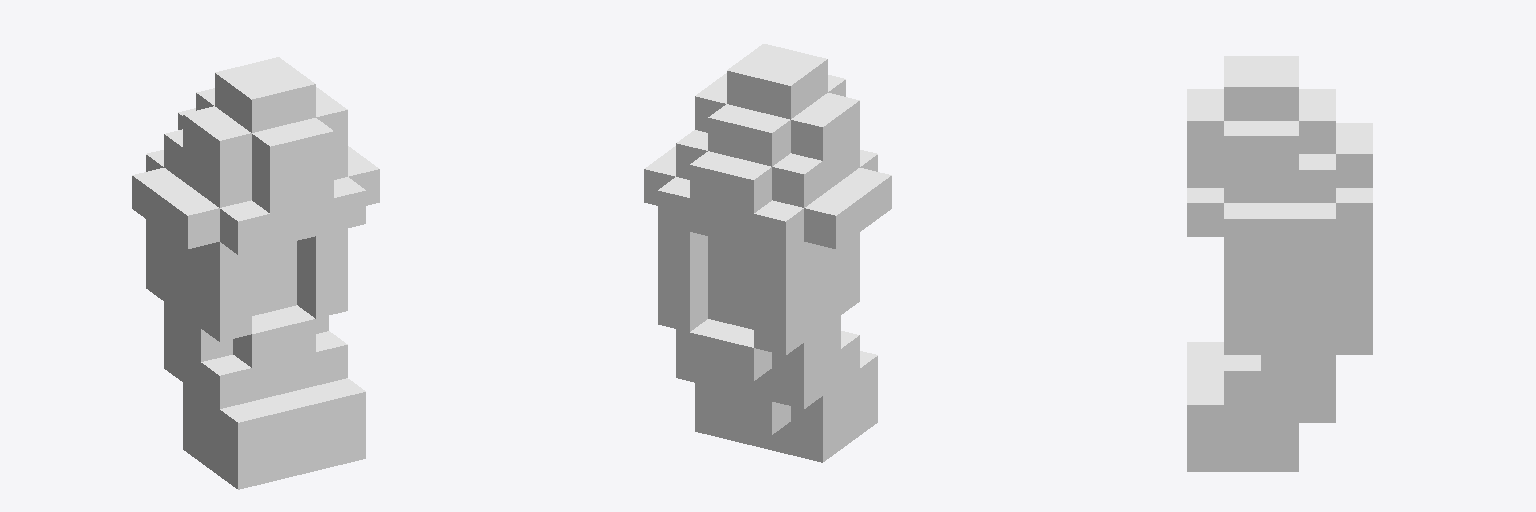
Rendered from Trevor-13.obj.
The picture shows the model from 3 angles: view 1: azimuth 30°, elevation 25°; view 2: azimuth 150°, elevation 25°; view 3: azimuth 270°, elevation 25°; orthographic projection.
Parts seen in each view (by area): view 1: object 1; view 2: object 1; view 3: object 1.
Boxes of the visible parts, box(x1,y1,x2,y2) form: object 1: box(132, 57, 379, 489); object 1: box(644, 44, 891, 462); object 1: box(1187, 56, 1372, 471).
Bounding box in the file's own units: 0.6 × 1.1 × 0.5.